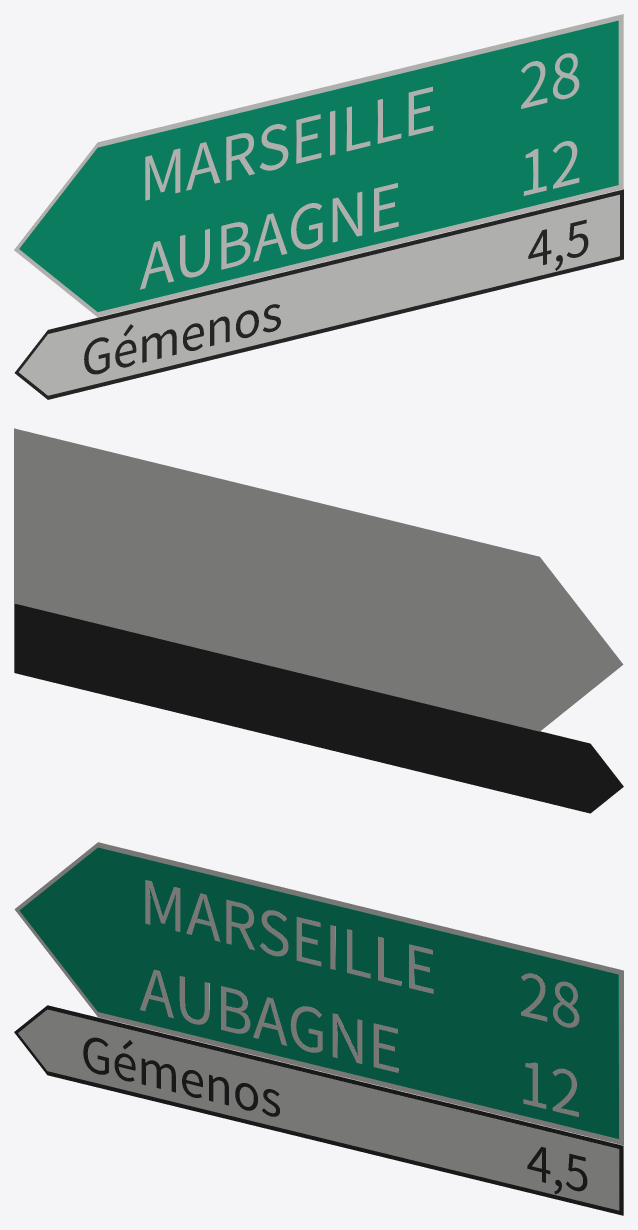
3 renders of one model, top to bottom at view 1: azimuth 30°, elevation 25°; view 2: azimuth 150°, elevation 25°; view 3: azimuth 330°, elevation 25°, orthographic.
Visible parts, largest first — view 1: D29a_reg01, D29a_reg07, D29a_lis00, D29a_lis06, D29a_txt02, D29a_txt04, D29a_txt08, D29a_txt03, D29a_txt05, D29a_txt09; view 2: D29a_lis00, D29a_lis06; view 3: D29a_reg01, D29a_reg07, D29a_lis00, D29a_lis06, D29a_txt02, D29a_txt04, D29a_txt08, D29a_txt03, D29a_txt05, D29a_txt09.
Boxes of the visible parts, <box> form: D29a_reg01: <box>19,20,618,311</box>; D29a_reg07: <box>19,194,619,395</box>; D29a_lis00: <box>14,14,623,317</box>; D29a_lis06: <box>15,189,623,399</box>; D29a_txt02: <box>145,86,433,200</box>; D29a_txt04: <box>140,183,398,289</box>; D29a_txt08: <box>84,304,280,374</box>; D29a_txt03: <box>521,53,579,108</box>; D29a_txt05: <box>523,141,579,195</box>; D29a_txt09: <box>528,219,588,270</box>; D29a_lis00: <box>14,428,623,731</box>; D29a_lis06: <box>14,603,623,813</box>; D29a_reg01: <box>19,847,618,1138</box>; D29a_reg07: <box>18,1009,619,1210</box>; D29a_lis00: <box>14,842,623,1145</box>; D29a_lis06: <box>14,1005,623,1215</box>; D29a_txt02: <box>145,880,433,993</box>; D29a_txt04: <box>140,969,398,1072</box>; D29a_txt08: <box>83,1037,279,1116</box>; D29a_txt03: <box>521,973,579,1027</box>; D29a_txt05: <box>523,1062,578,1116</box>; D29a_txt09: <box>527,1147,587,1194</box>.
Size of the model in its own units: 1.82 by 0.7 by 0.004.
